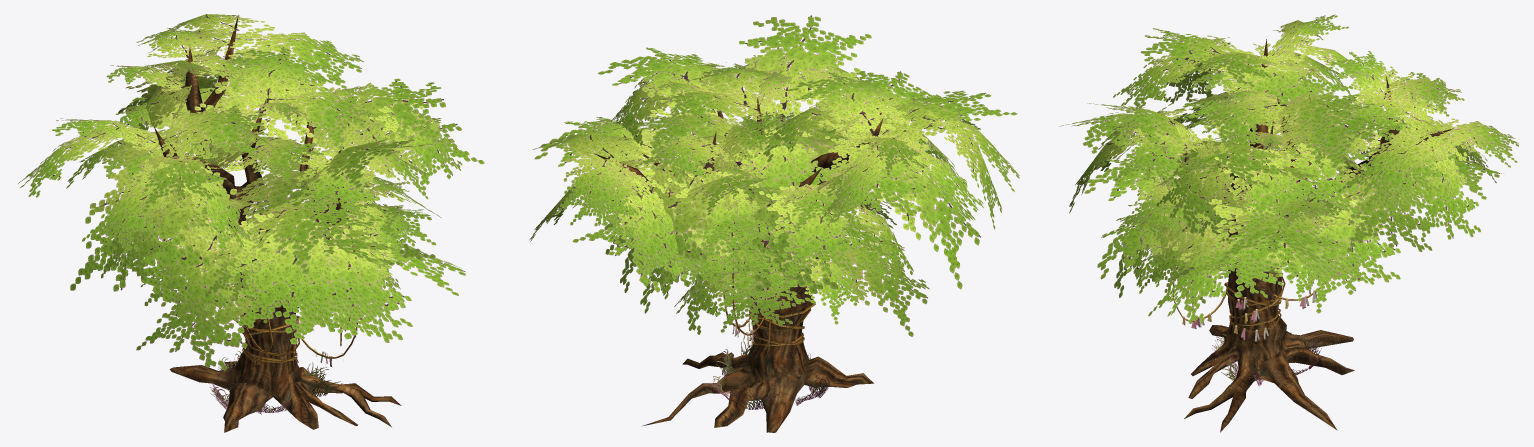
The model's file is n_SWEwtree01.glb.
The picture shows the model from 3 angles, left to right: view 1: azimuth 30°, elevation 25°; view 2: azimuth 150°, elevation 25°; view 3: azimuth 270°, elevation 25°; orthographic projection. The views are drawn at different scales.
Visible parts, largest first — view 1: n_SWEwtree01; view 2: n_SWEwtree01; view 3: n_SWEwtree01.
Boxes of the visible parts, x1,y1,x2,y2 form: n_SWEwtree01: [18, 14, 484, 432]; n_SWEwtree01: [529, 15, 1019, 432]; n_SWEwtree01: [1059, 14, 1518, 432].
Bounding box in the file's own units: 13.23 × 9.94 × 13.32.
5 materials, 5 textured.
